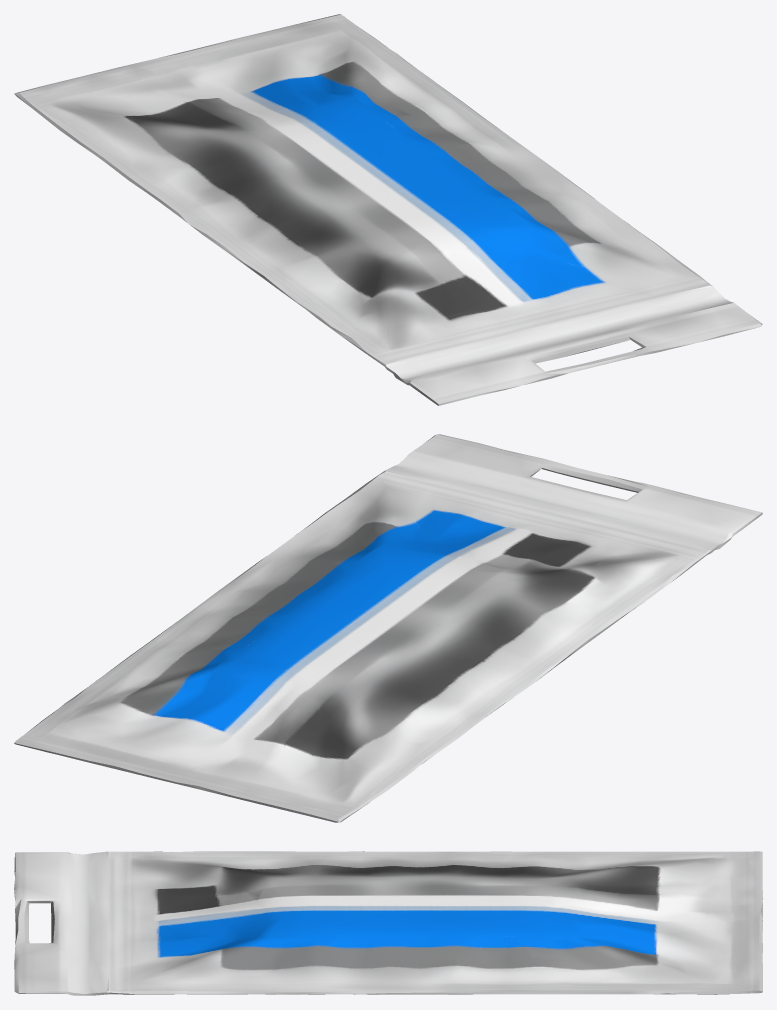
The model's file is StageSuturePacket.glb.
The picture shows the model from 3 angles, top to bottom: view 1: azimuth 30°, elevation 25°; view 2: azimuth 150°, elevation 25°; view 3: azimuth 270°, elevation 25°; orthographic projection. The views are drawn at different scales.
Visible parts, largest first — view 1: geometry_0; view 2: geometry_0; view 3: geometry_0.
Boxes of the visible parts, x1,y1,x2,y2 form: geometry_0: (14,14,762,405); geometry_0: (14,434,762,822); geometry_0: (14,851,762,995).
Bounding box in the file's own units: 0.045 × 0.005 × 0.1.
Materials: 1 (1 with a texture image).
